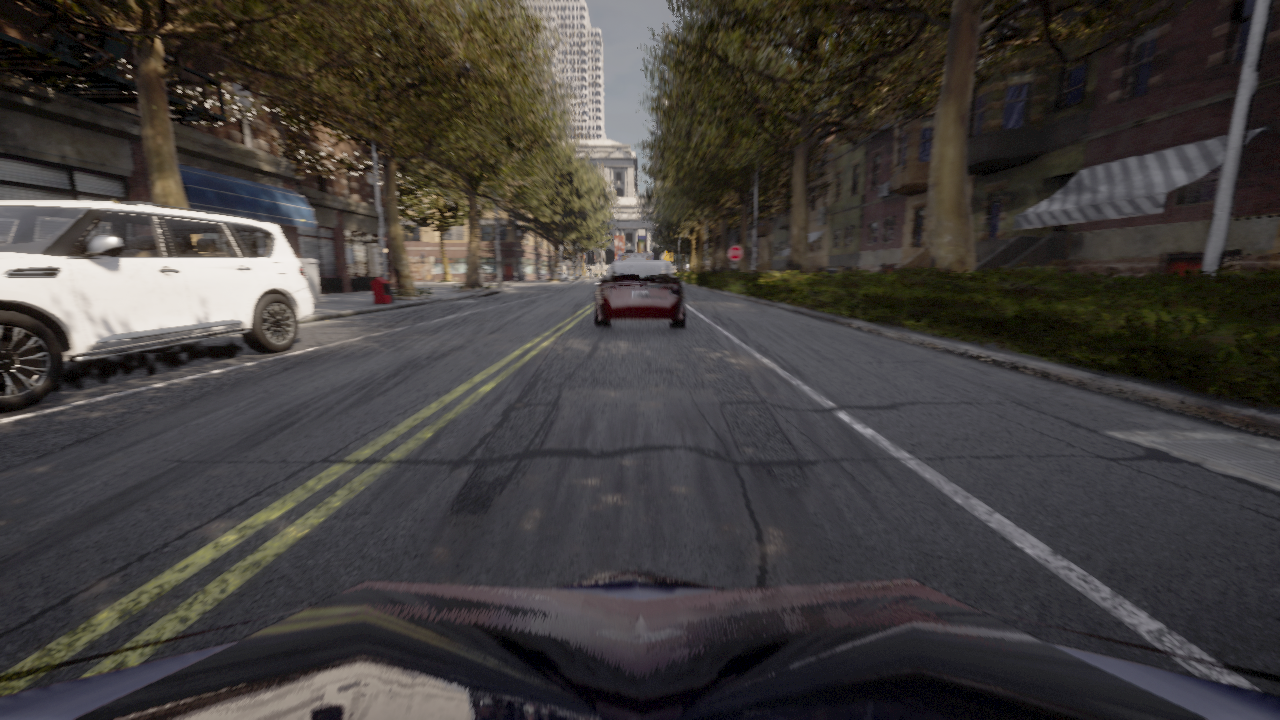cyclist: (0, 569, 1279, 719), (0, 201, 312, 412), (594, 261, 684, 327), (618, 254, 652, 261), (606, 267, 609, 275)
